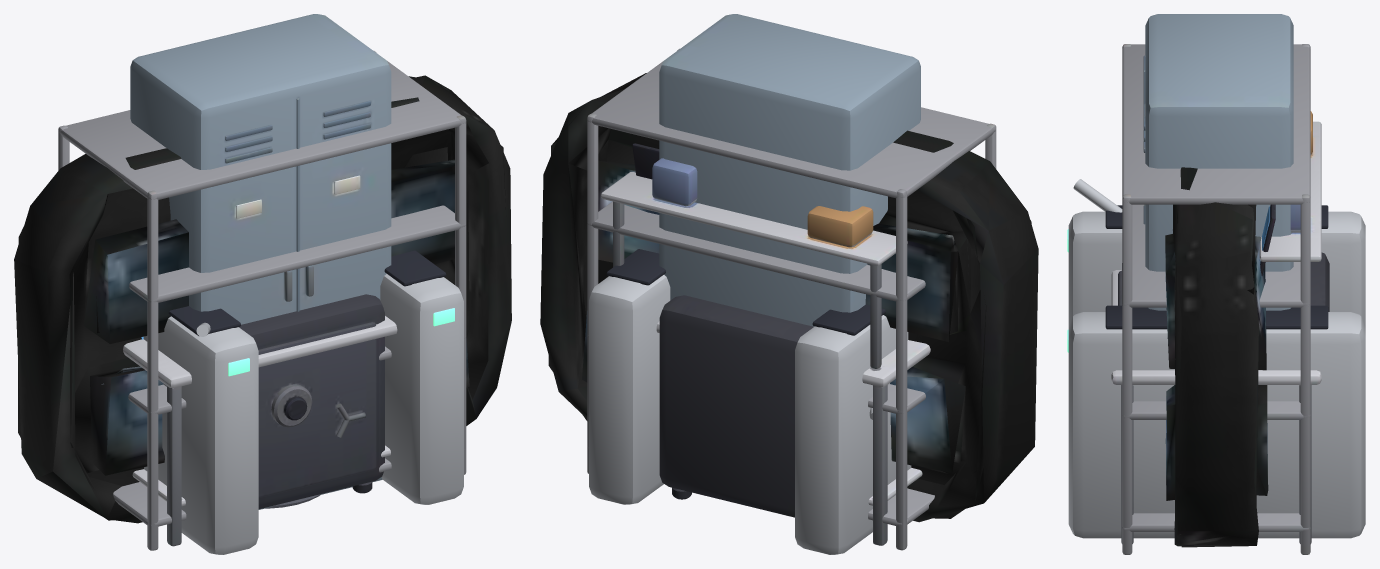
The model's file is office-props-floor-3.d699a02c.glb.
3 views of the same model, side by side, from view 1: azimuth 30°, elevation 25°; view 2: azimuth 150°, elevation 25°; view 3: azimuth 270°, elevation 25° (orthographic).
Parts seen in each view (by area): view 1: cctv-wall, locker, turnstile, device-shelf, safe, test-bench; view 2: cctv-wall, locker, turnstile, device-shelf, safe, test-bench; view 3: turnstile, cctv-wall, device-shelf, locker, test-bench, safe.
Boxes of the visible parts, x1,y1,x2,y2 form: cctv-wall: [14, 75, 511, 523]; locker: [130, 14, 391, 509]; turnstile: [143, 250, 463, 554]; device-shelf: [58, 51, 466, 550]; safe: [239, 294, 384, 508]; test-bench: [123, 316, 397, 546]; cctv-wall: [540, 73, 1038, 522]; locker: [659, 14, 920, 326]; turnstile: [589, 249, 911, 554]; device-shelf: [587, 48, 996, 550]; safe: [659, 295, 813, 517]; test-bench: [601, 158, 930, 545]; turnstile: [1067, 179, 1365, 538]; cctv-wall: [1165, 167, 1268, 547]; device-shelf: [1122, 44, 1310, 554]; locker: [1143, 14, 1293, 310]; test-bench: [1111, 111, 1321, 543]; safe: [1118, 252, 1329, 311].
Bounding box in the file's own units: 2.16 × 1.88 × 1.2.
Materials: 16 (6 with a texture image).
